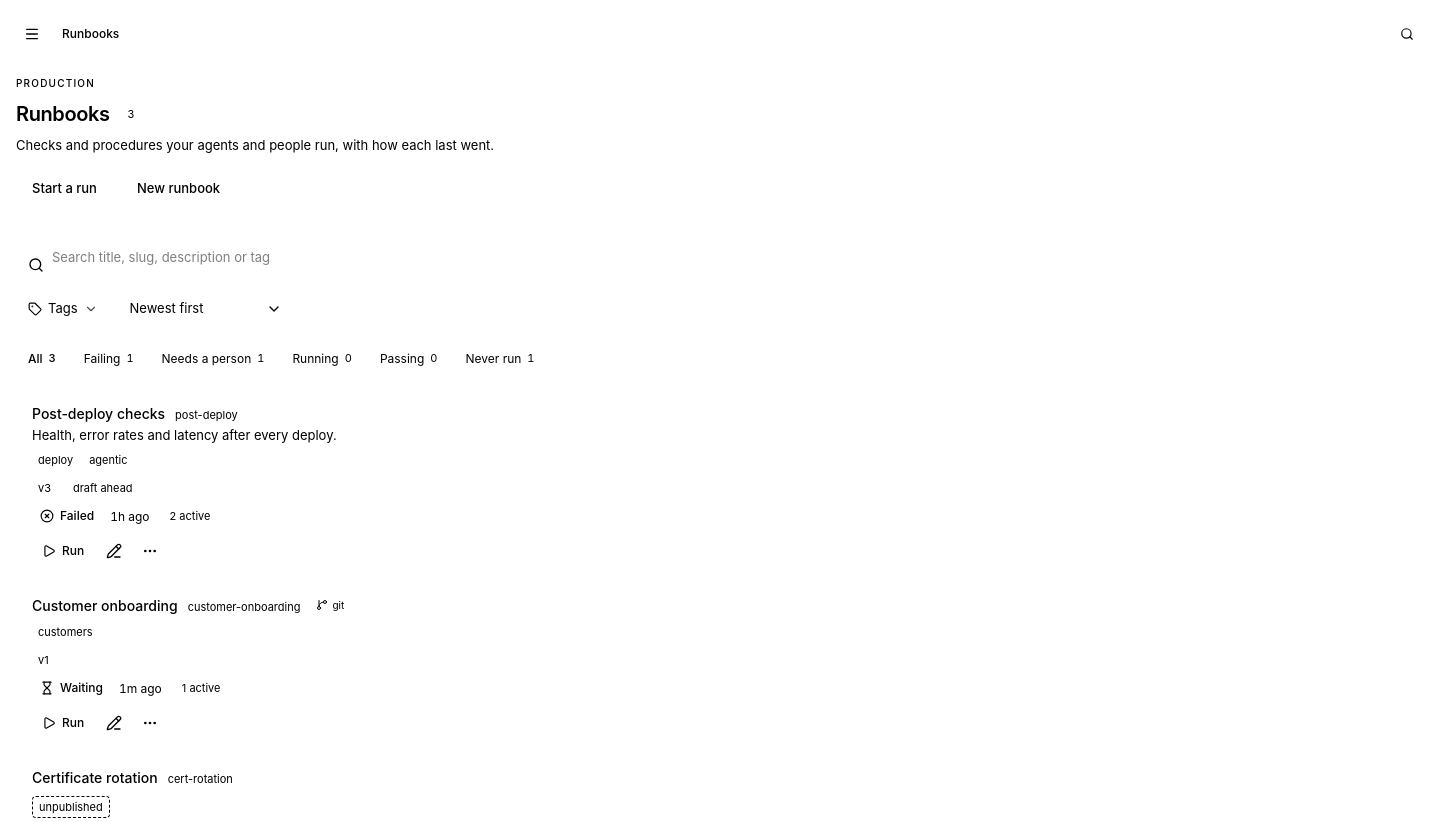
Scenario: runbooks list (UI-1) › filters by tag on the server
Check: the link "Post-deploy checks" is shown, box [32,403,165,424]
Click the button with aria-label "Filter by tag".
click(63, 309)  # box [16,287,110,331]
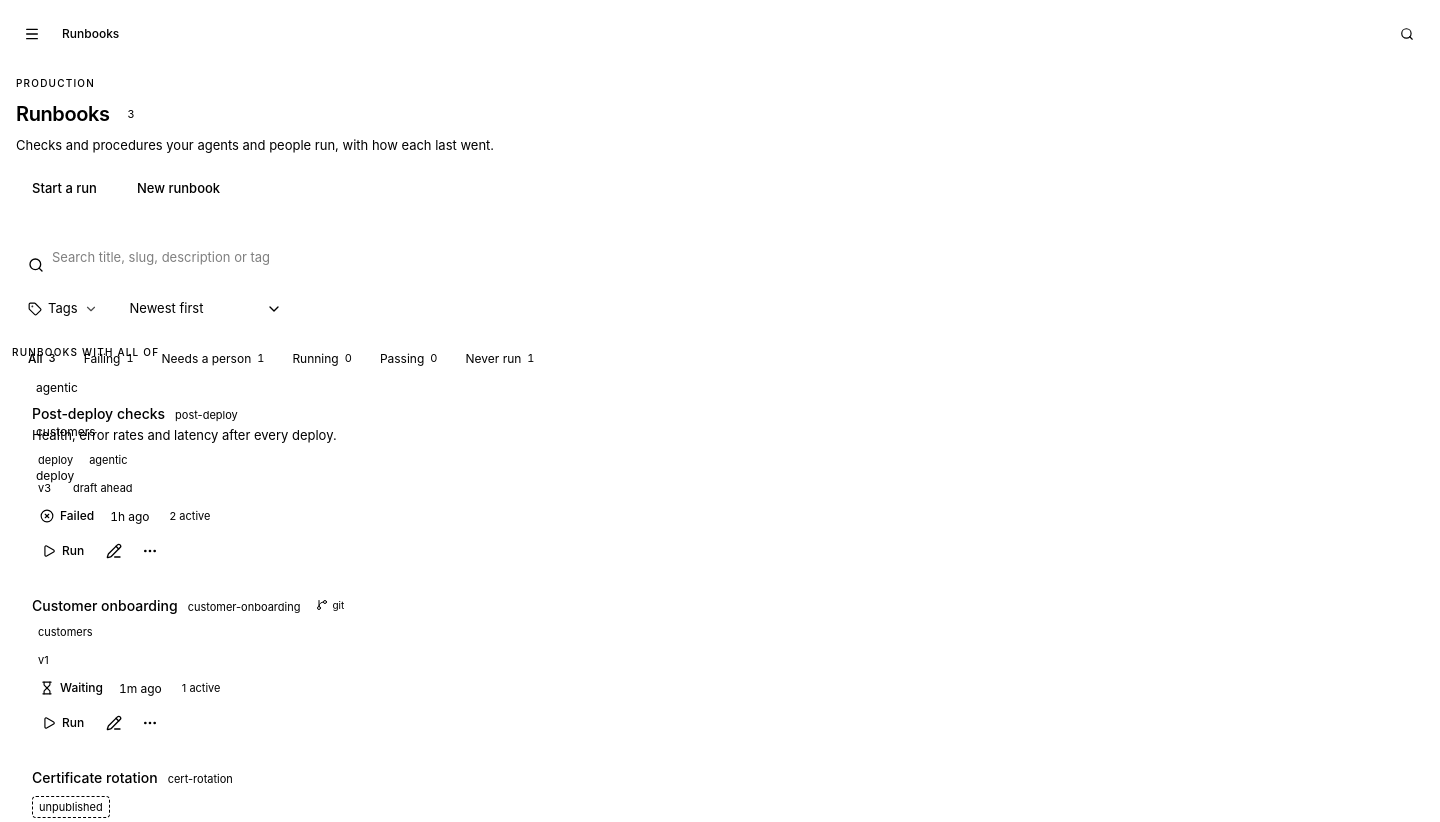
Click the menu item "customers".
click(66, 432)  # box [36,424,96,439]
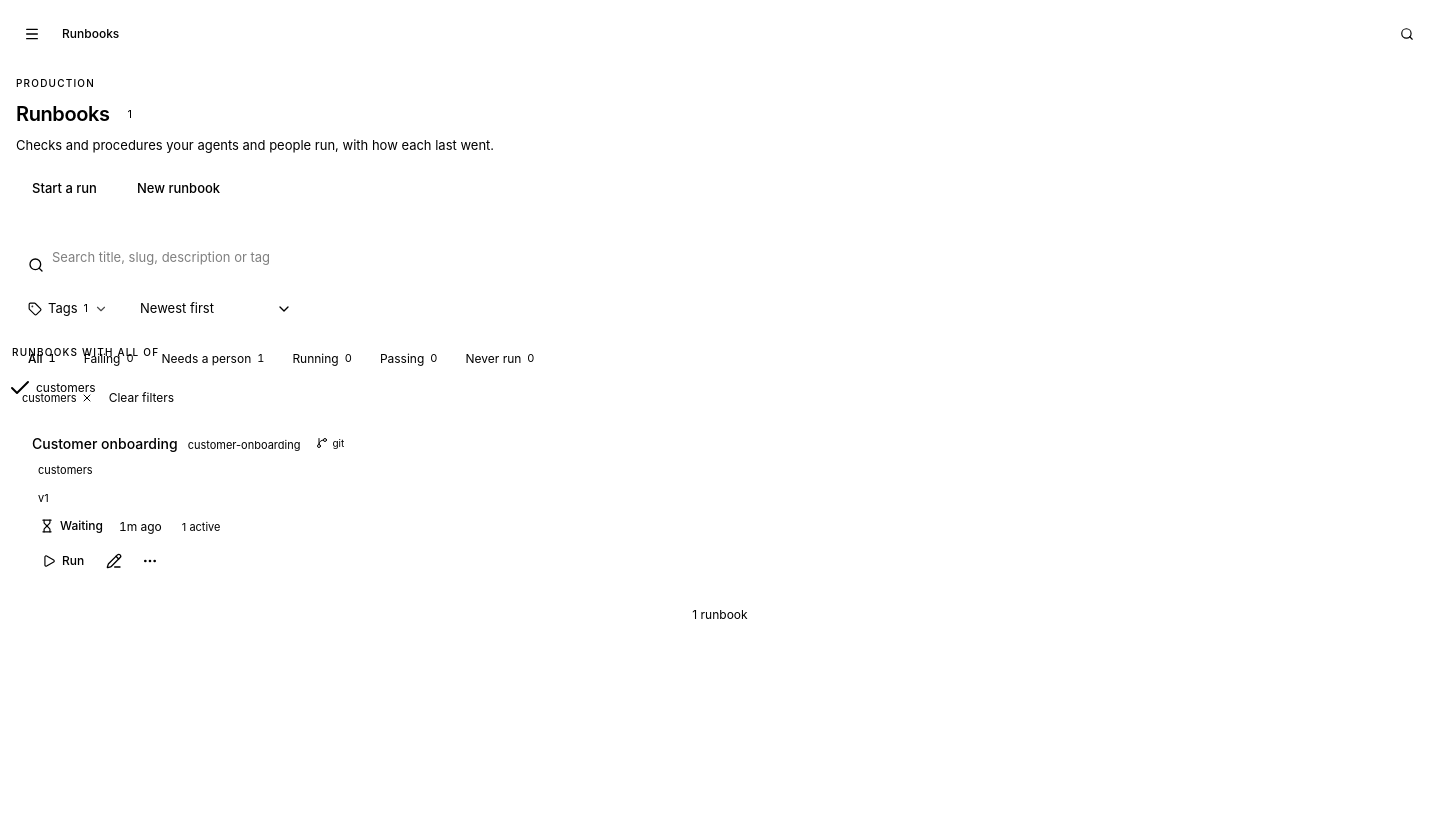
Press Escape
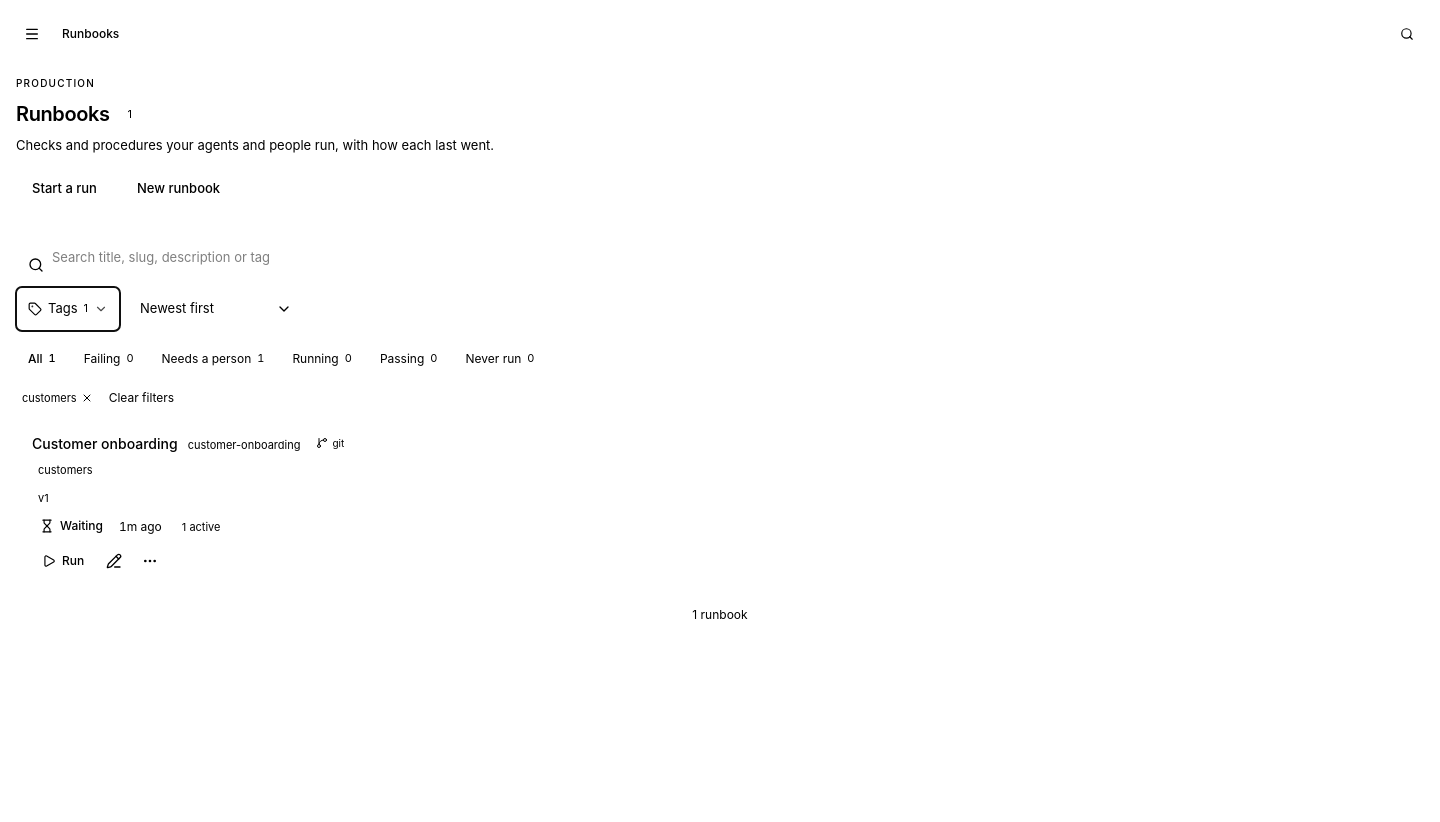
Check: the link "Post-deploy checks" is not shown
Check: the button "customers" is shown
Click the button with aria-label "Remove tag filter customers".
click(57, 398)  # box [16,389,99,407]
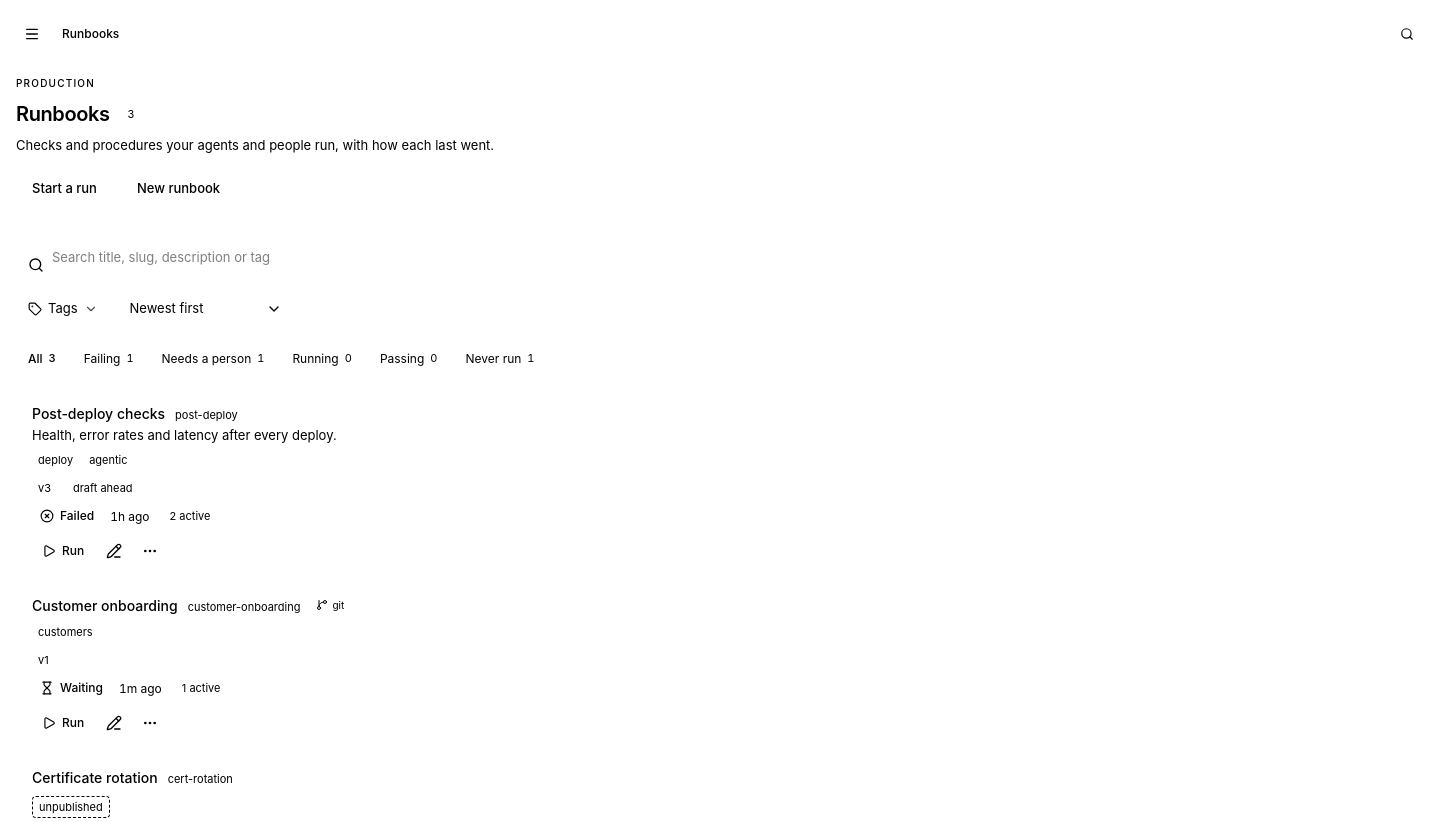
Check: the link "Post-deploy checks" is shown, box [32,403,165,424]
